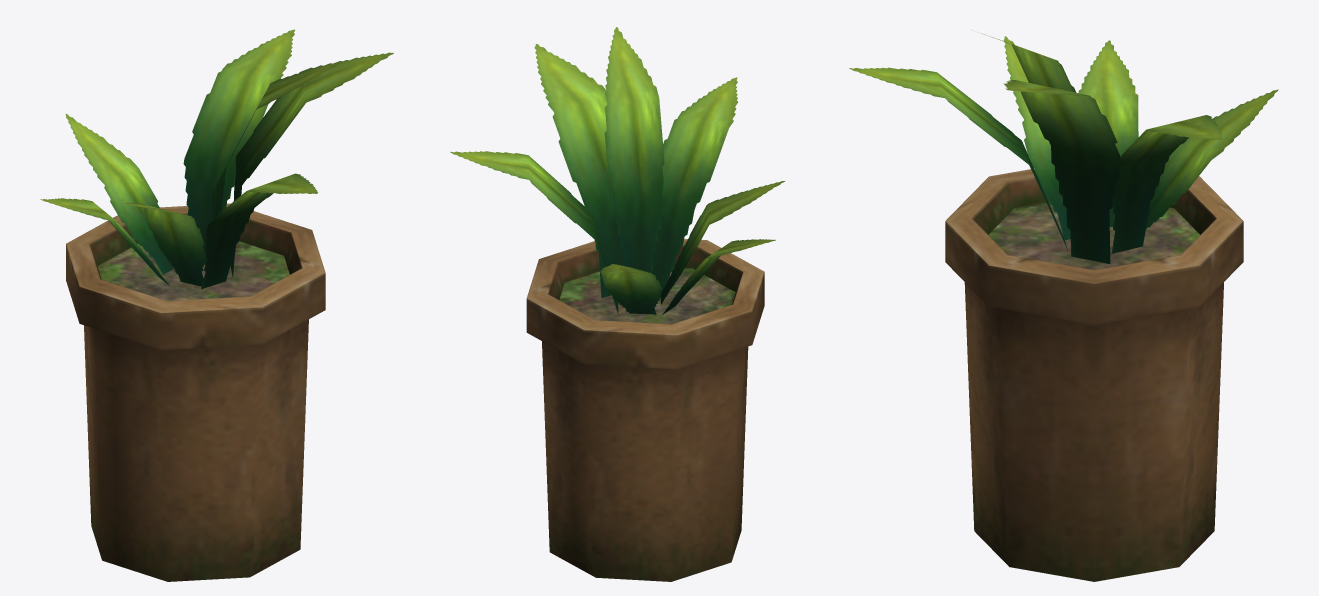
The model's file is wm_灌木盆栽04.fbx.
3 views of the same model, side by side, from view 1: azimuth 30°, elevation 25°; view 2: azimuth 150°, elevation 25°; view 3: azimuth 270°, elevation 25° (orthographic). The views are drawn at different scales.
Parts seen in each view (by area): view 1: wm_灌木盆栽04; view 2: wm_灌木盆栽04; view 3: wm_灌木盆栽04.
Boxes of the visible parts, x1=… form: wm_灌木盆栽04: x1=40, y1=29, x2=393, y2=581; wm_灌木盆栽04: x1=450, y1=27, x2=784, y2=581; wm_灌木盆栽04: x1=849, y1=33, x2=1278, y2=581.
Size of the model in its own units: 125 by 173 by 133.
